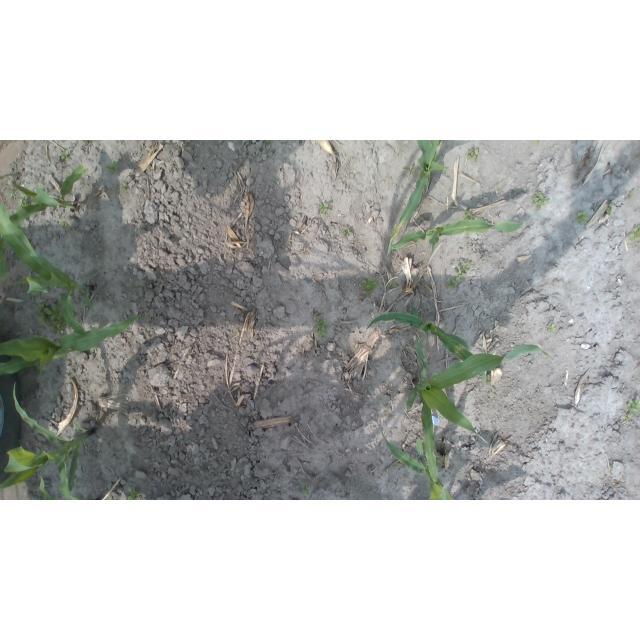Maize: (407, 337, 554, 481), (0, 198, 92, 336), (0, 381, 96, 500), (1, 162, 88, 279), (1, 314, 140, 376), (387, 140, 448, 258), (378, 428, 456, 500), (366, 312, 472, 360), (390, 217, 524, 251)
Weeds: (36, 301, 65, 336), (623, 395, 640, 422), (360, 275, 380, 297), (533, 191, 550, 212), (455, 262, 471, 281), (315, 319, 329, 338), (629, 224, 640, 243), (107, 160, 120, 175), (576, 211, 589, 225), (126, 488, 141, 500), (466, 149, 479, 162), (18, 194, 29, 209), (300, 484, 312, 496), (447, 278, 458, 291), (409, 304, 420, 317), (319, 204, 330, 216), (464, 210, 475, 221), (343, 227, 353, 238), (59, 219, 69, 229), (628, 190, 637, 201), (59, 152, 70, 161), (483, 375, 491, 386), (388, 280, 399, 288), (548, 324, 557, 333), (605, 204, 613, 214), (118, 183, 126, 193), (408, 165, 416, 174), (491, 387, 498, 397), (9, 191, 16, 199), (90, 348, 97, 356), (264, 141, 271, 146), (56, 395, 61, 401), (82, 140, 87, 144), (536, 141, 541, 144)
